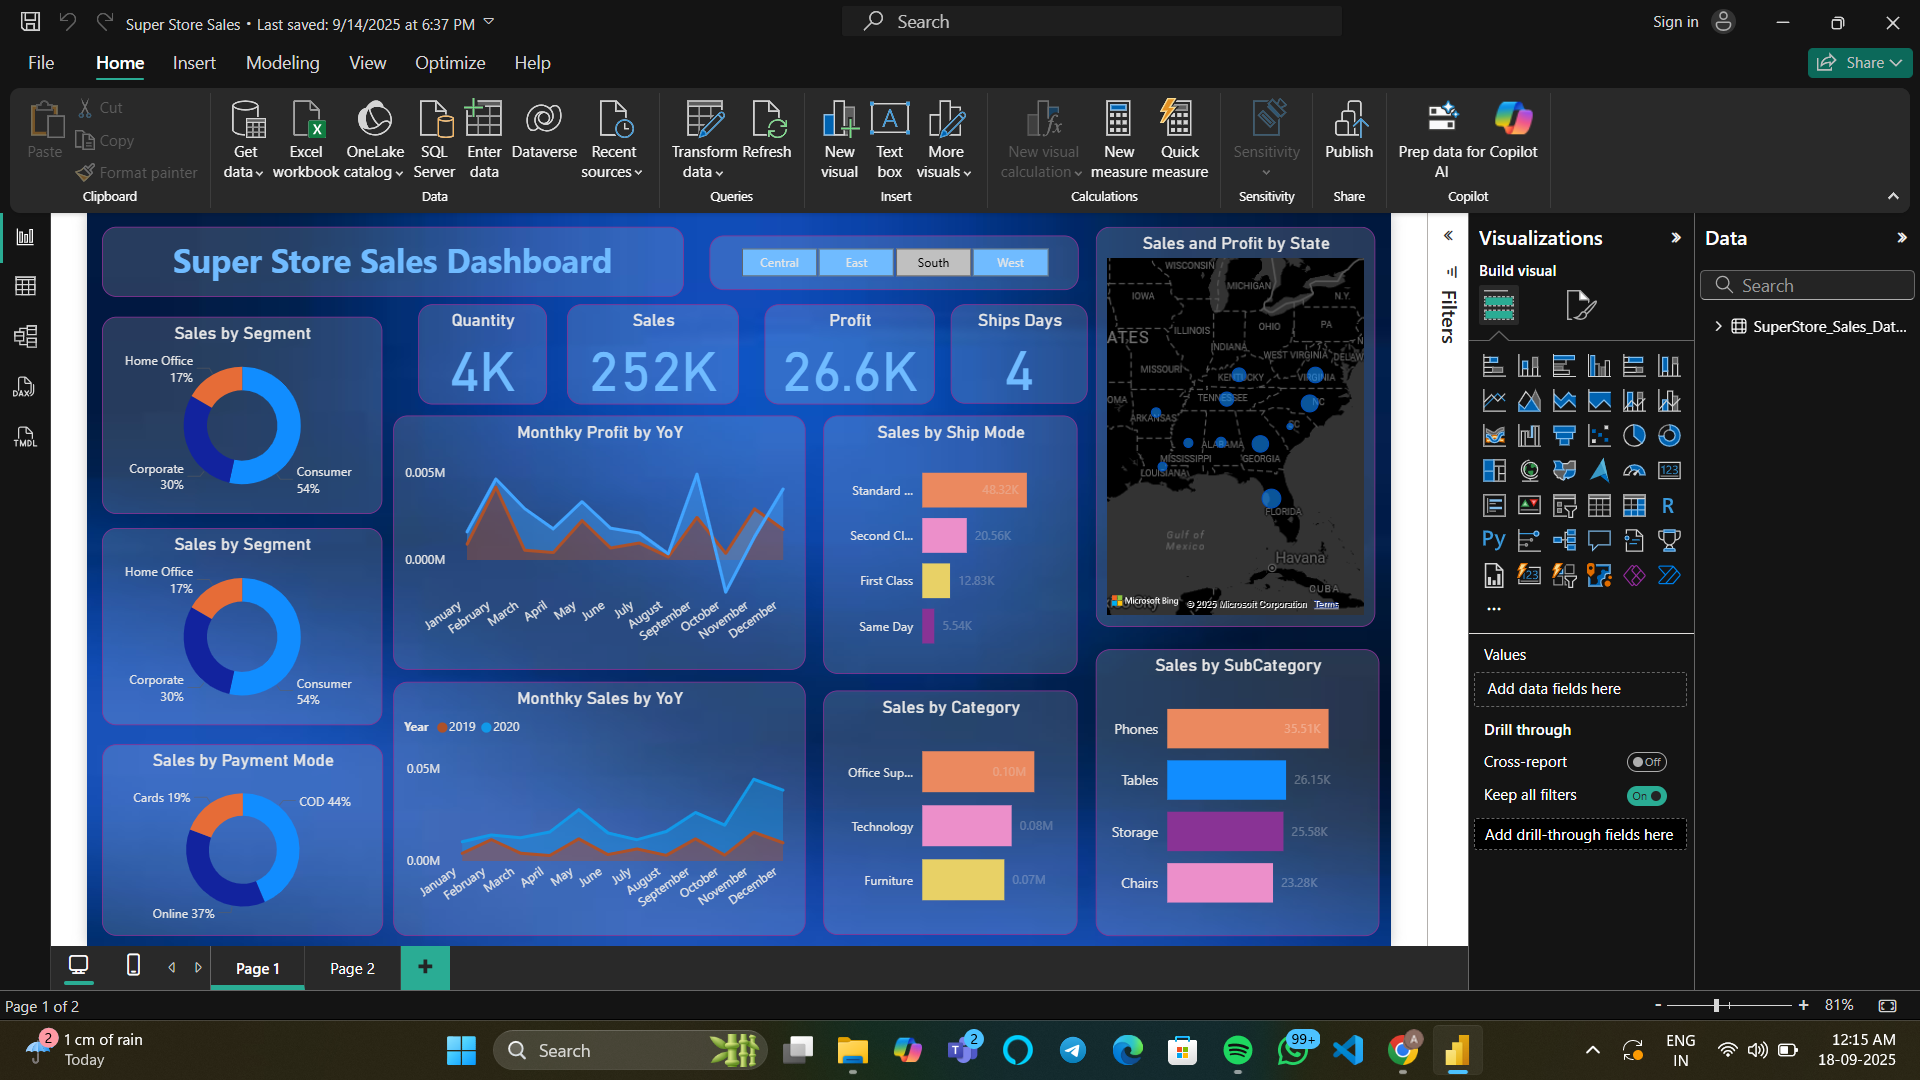

Layout of this report page (visuals, bound fields, positions):
{"tool":"powerbi","page":{"name":"Page 1","canvas":[1280,720],"ordinal":0},"visuals":[{"type":"barChart","title":"Sales by Category","fields":{"Category":["SuperStore_Sales_Dataset (1).Category"],"Y":["Sum(SuperStore_Sales_Dataset (1).Sales)"]},"box":[723.2,469.3,249.7,240.1],"z":0},{"type":"barChart","title":"Sales by SubCategory","fields":{"Category":["SuperStore_Sales_Dataset (1).Sub-Category"],"Y":["Sum(SuperStore_Sales_Dataset (1).Sales)"]},"box":[990.7,428.1,278.6,281.3],"z":1000},{"type":"barChart","title":"Sales by Ship Mode","fields":{"Category":["SuperStore_Sales_Dataset (1).Ship Mode"],"Y":["Sum(SuperStore_Sales_Dataset (1).Sales)"]},"box":[723.2,199,249.7,253.9],"z":2000},{"type":"stackedAreaChart","title":"Monthky Sales by YoY","fields":{"Category":["SuperStore_Sales_Dataset (1).Order Date.Variation.Date Hierarchy.Month"],"Y":["Sum(SuperStore_Sales_Dataset (1).Sales)"],"Series":["SuperStore_Sales_Dataset (1).Order Date.Variation.Date Hierarchy.Year"]},"box":[300.5,459.7,404.8,249.7],"z":3000},{"type":"stackedAreaChart","title":"Monthky Profit by YoY","fields":{"Category":["SuperStore_Sales_Dataset (1).Order Date.Variation.Date Hierarchy.Month"],"Series":["SuperStore_Sales_Dataset (1).Order Date.Variation.Date Hierarchy.Year"],"Y":["Sum(SuperStore_Sales_Dataset (1).Profit)"]},"box":[300.5,199,404.8,249.7],"z":4000},{"type":"map","title":"Sales and Profit by State","fields":{"Category":["SuperStore_Sales_Dataset (1).State"],"Size":["Sum(SuperStore_Sales_Dataset (1).Sales)"]},"box":[990.7,13.7,274.4,392.5],"z":5000},{"type":"donutChart","title":"Sales by Segment","fields":{"Category":["SuperStore_Sales_Dataset (1).Segment"],"Y":["Sum(SuperStore_Sales_Dataset (1).Sales)"]},"box":[14.7,101.8,274.8,193.9],"z":6000},{"type":"donutChart","title":"Sales by Payment Mode","fields":{"Category":["SuperStore_Sales_Dataset (1).Payment Mode"],"Y":["Sum(SuperStore_Sales_Dataset (1).Sales)"]},"box":[14.7,521.5,276.1,187.7],"z":7000},{"type":"slicer","fields":{"Values":["SuperStore_Sales_Dataset (1).Region"]},"box":[610.6,22,362.3,53.5],"z":8000},{"type":"card","title":"Profit","fields":{"Values":["Sum(SuperStore_Sales_Dataset (1).Profit)"]},"box":[665.5,89.2,167.4,98.8],"z":9000},{"type":"card","title":"Quantity","fields":{"Values":["Sum(SuperStore_Sales_Dataset (1).Quantity)"]},"box":[325.2,89.2,126.2,98.8],"z":10000},{"type":"card","title":"Ships Days","fields":{"Values":["Avg(SuperStore_Sales_Dataset (1).AvgDelivery)"]},"box":[848,89.2,134.5,97.4],"z":11000},{"type":"card","title":"Sales","fields":{"Values":["Sum(SuperStore_Sales_Dataset (1).Sales)"]},"box":[470.7,89.2,168.8,98.8],"z":12000},{"type":"textbox","box":[15.1,13.7,570.8,68.6],"z":13000},{"type":"donutChart","title":"Sales by Segment","fields":{"Category":["SuperStore_Sales_Dataset (1).Segment"],"Y":["Sum(SuperStore_Sales_Dataset (1).Sales)"]},"box":[14.7,309.2,274.8,193.9],"z":14000}]}

Visuals, with their boxes on the page's 1280x720 design canvas (x1, y1, x2, y2). These are canvas units, not pixel positions in the 1920x1080 screenshot, which may show the page scaled, cropped or inside an application window:
"Sales by Category" barChart: {"x1": 723, "y1": 469, "x2": 973, "y2": 709}
"Sales by SubCategory" barChart: {"x1": 991, "y1": 428, "x2": 1269, "y2": 709}
"Sales by Ship Mode" barChart: {"x1": 723, "y1": 199, "x2": 973, "y2": 453}
"Monthky Sales by YoY" stackedAreaChart: {"x1": 300, "y1": 460, "x2": 705, "y2": 709}
"Monthky Profit by YoY" stackedAreaChart: {"x1": 300, "y1": 199, "x2": 705, "y2": 449}
"Sales and Profit by State" map: {"x1": 991, "y1": 14, "x2": 1265, "y2": 406}
"Sales by Segment" donutChart: {"x1": 15, "y1": 102, "x2": 290, "y2": 296}
"Sales by Payment Mode" donutChart: {"x1": 15, "y1": 522, "x2": 291, "y2": 709}
slicer - SuperStore_Sales_Dataset (1).Region: {"x1": 611, "y1": 22, "x2": 973, "y2": 76}
"Profit" card: {"x1": 666, "y1": 89, "x2": 833, "y2": 188}
"Quantity" card: {"x1": 325, "y1": 89, "x2": 451, "y2": 188}
"Ships Days" card: {"x1": 848, "y1": 89, "x2": 982, "y2": 187}
"Sales" card: {"x1": 471, "y1": 89, "x2": 640, "y2": 188}
textbox: {"x1": 15, "y1": 14, "x2": 586, "y2": 82}
"Sales by Segment" donutChart: {"x1": 15, "y1": 309, "x2": 290, "y2": 503}
